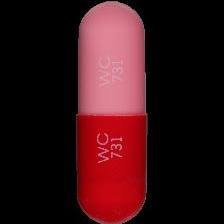51655-157: (0, 0, 224, 224)
